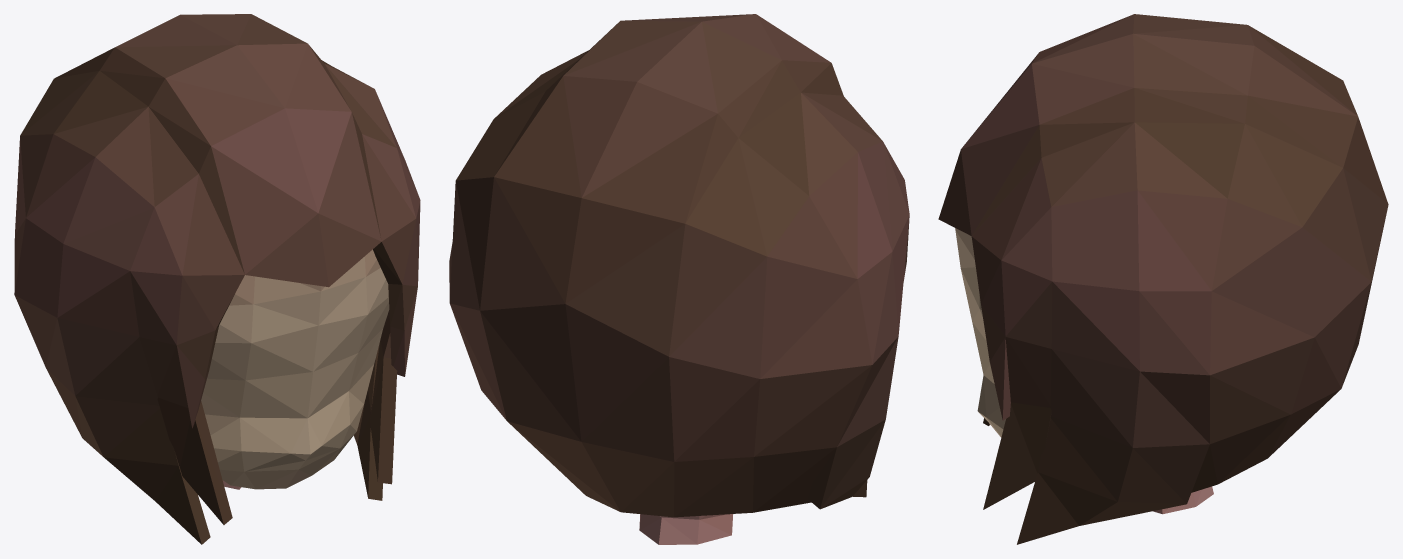
File: helm_lightskin_bob_brown.fbx
3 renders of one model, left to right at view 1: azimuth 30°, elevation 25°; view 2: azimuth 150°, elevation 25°; view 3: azimuth 270°, elevation 25°, orthographic. The views are drawn at different scales.
Parts seen in each view (by area): view 1: helm_lightskin_bob_brown; view 2: helm_lightskin_bob_brown; view 3: helm_lightskin_bob_brown.
Boxes of the visible parts, x1,y1,x2,y2 form: helm_lightskin_bob_brown: [14, 14, 420, 544]; helm_lightskin_bob_brown: [449, 14, 909, 544]; helm_lightskin_bob_brown: [938, 14, 1388, 544].
Size of the model in its own units: 1.18 by 1.34 by 1.16.
